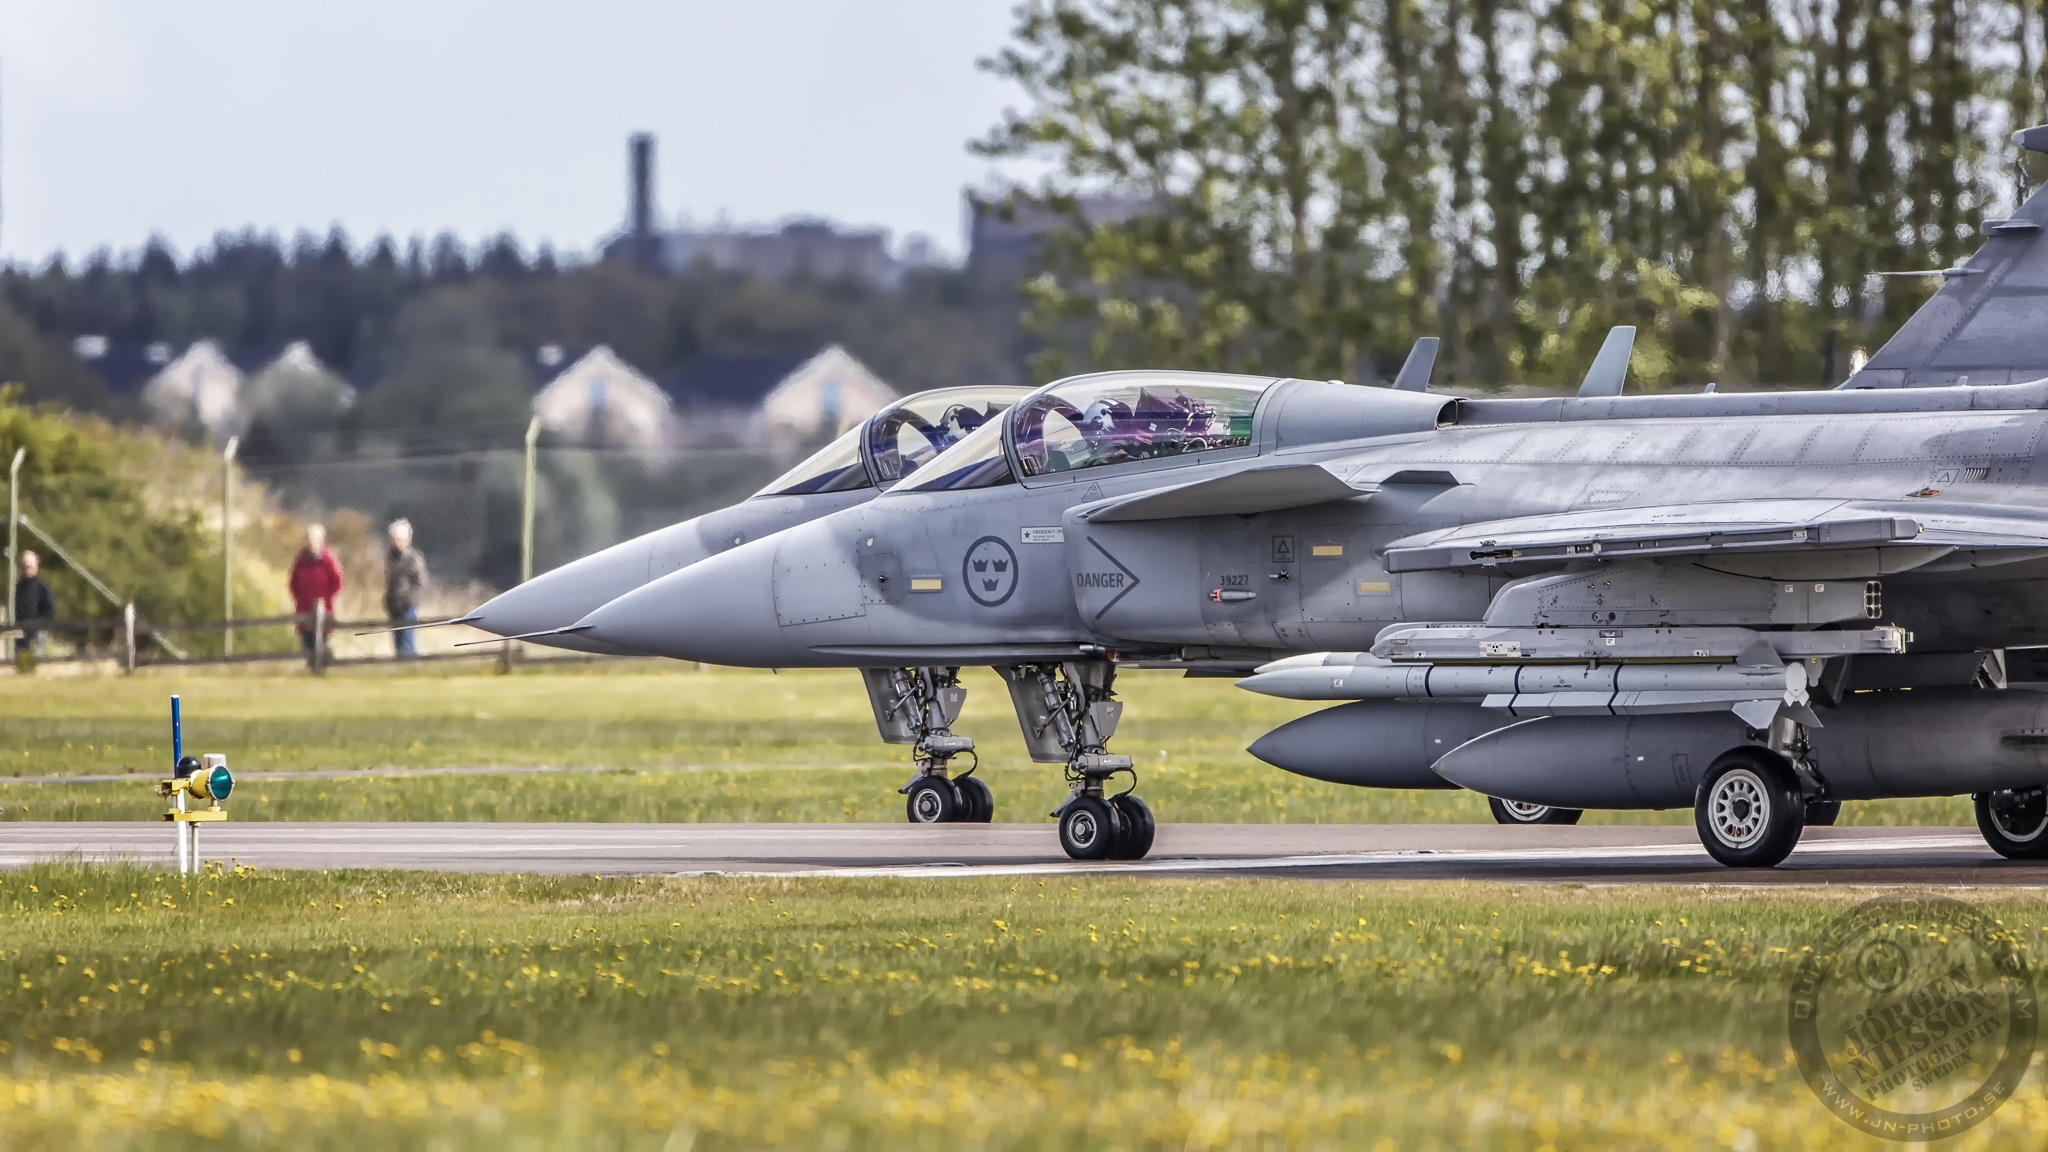JAS39: (354, 124, 2048, 826), (453, 325, 2048, 866)
